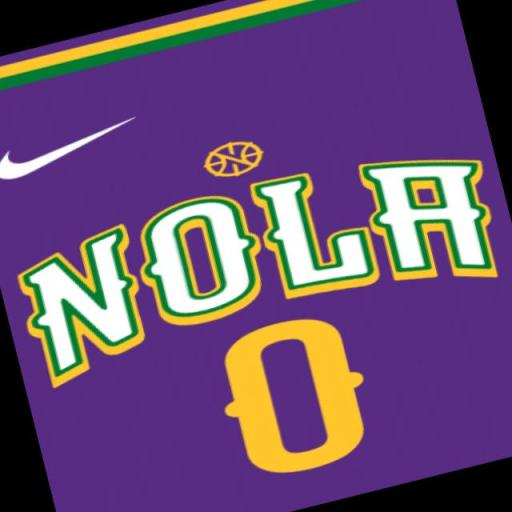Nike: (0, 108, 157, 194)
